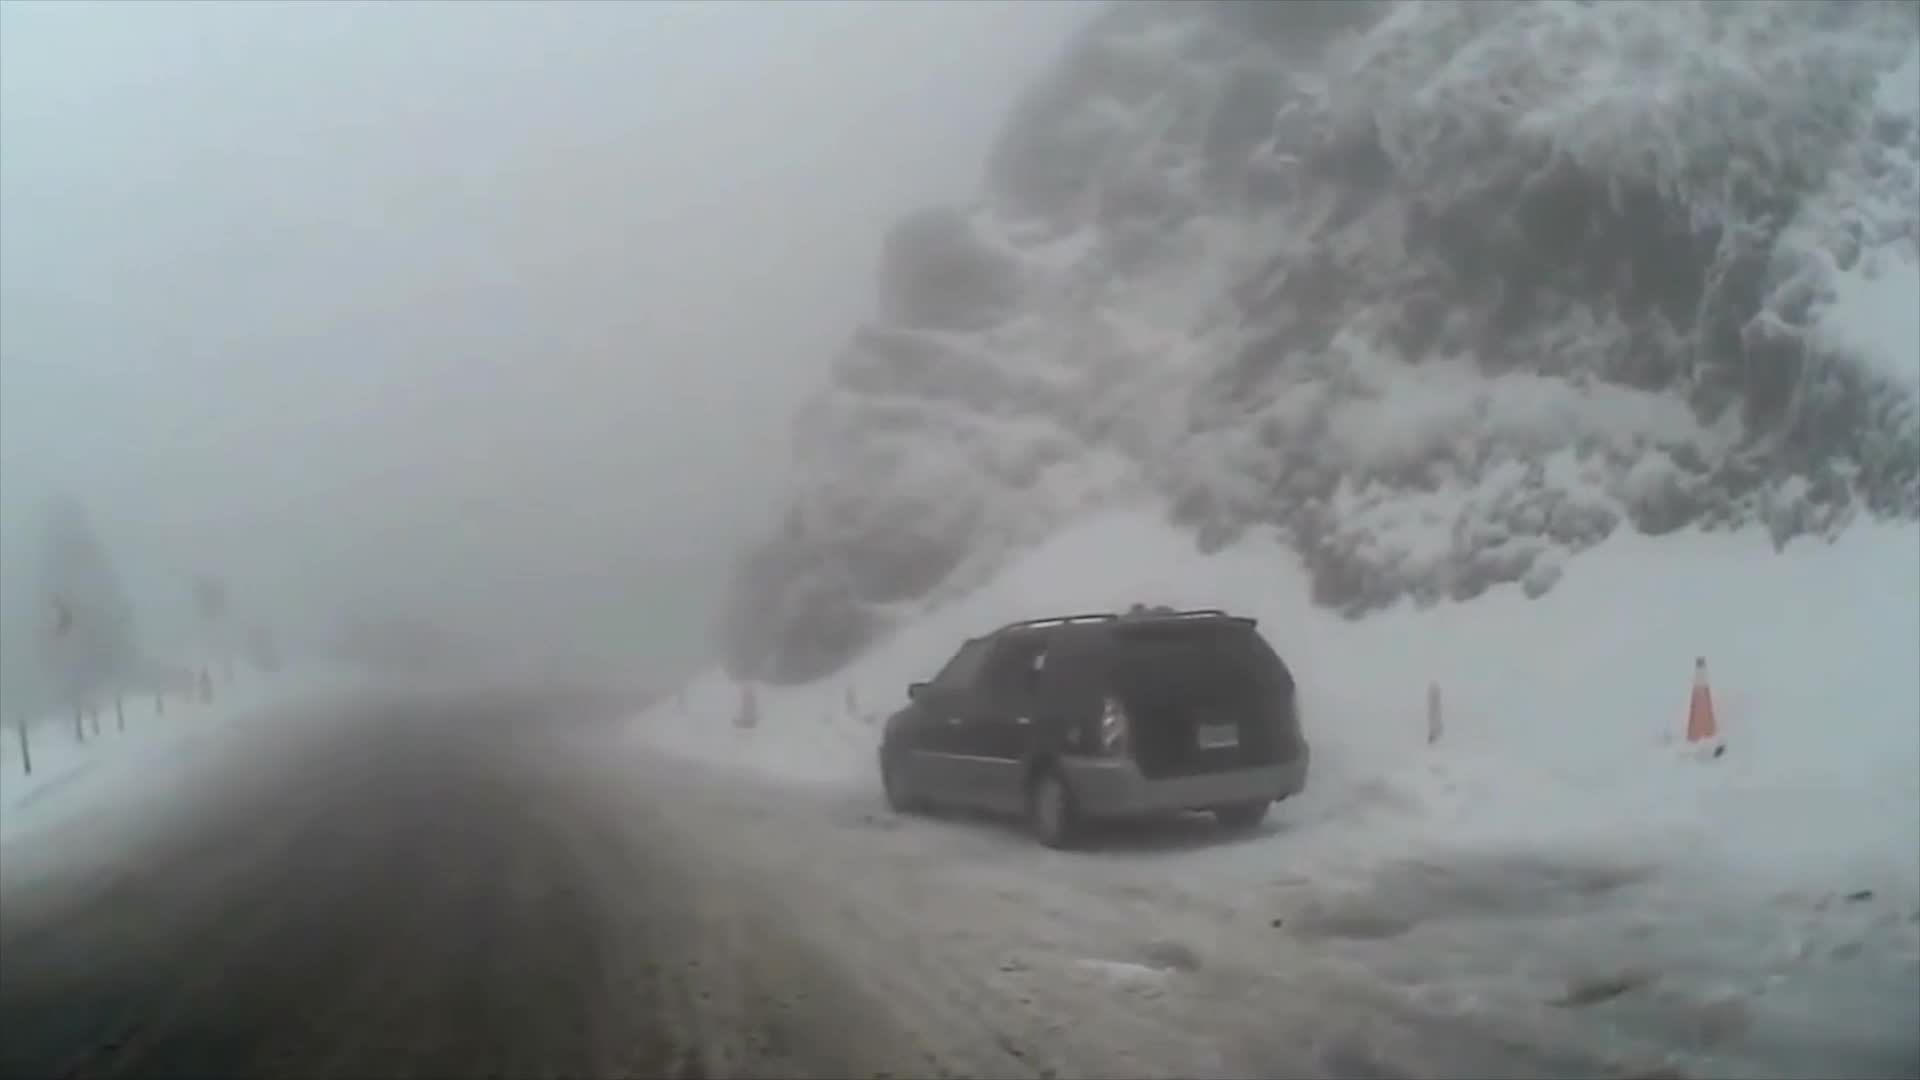vehicle: (874, 605, 1312, 849)
